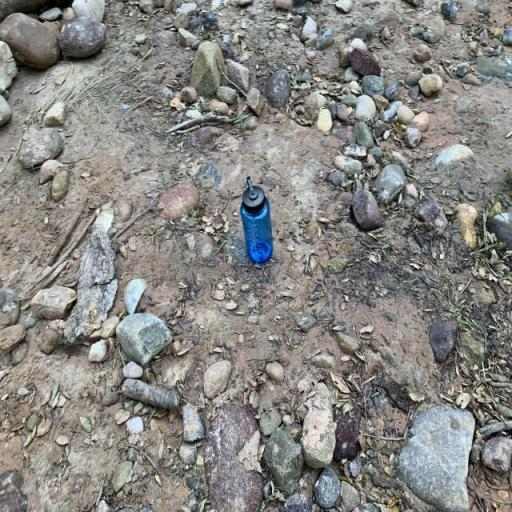bottle: (240, 176, 274, 264)
